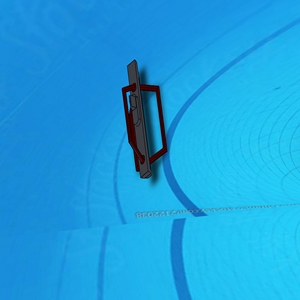submarine: (115, 60, 171, 178)
